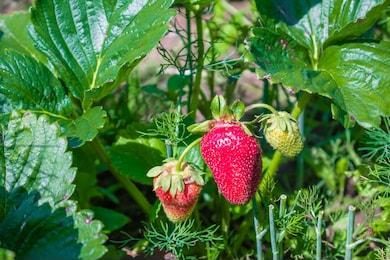Fresa: (197, 116, 266, 208), (149, 155, 205, 226)
